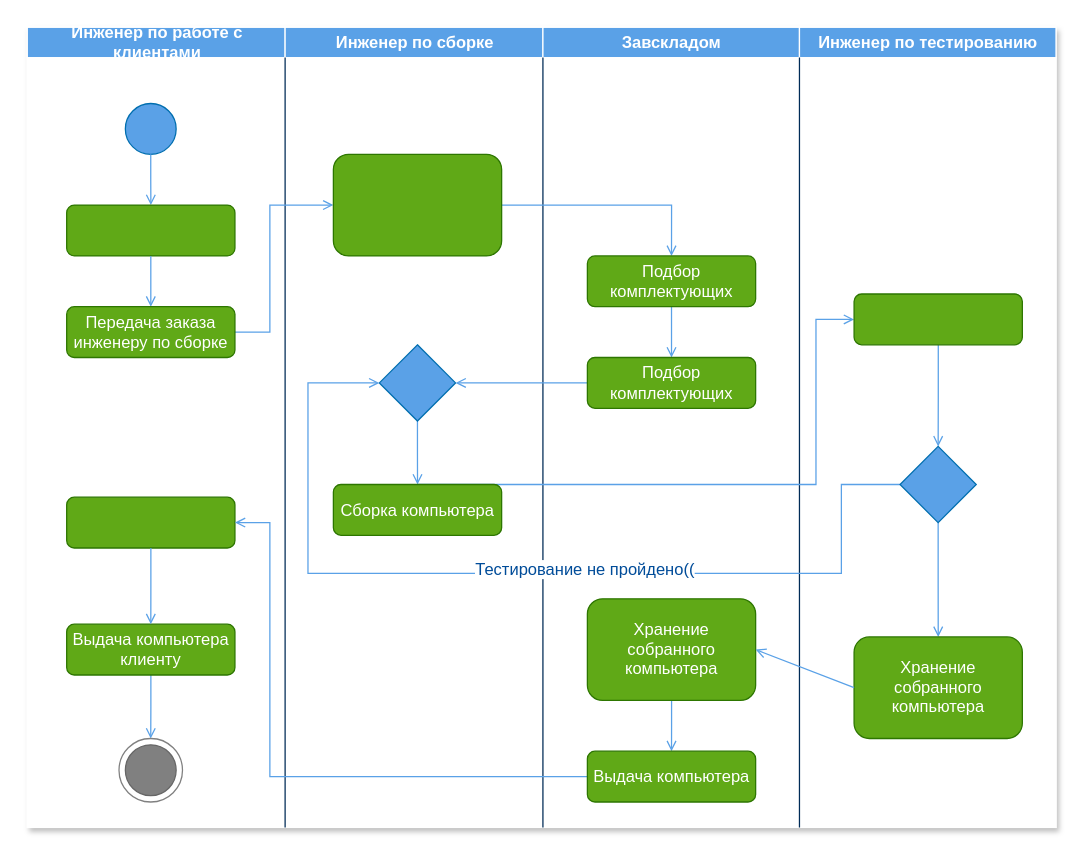
Some shapes in this 1086 by 859 pixel diagram are drawn without their labels. The centre of each missing label's shape, as x and y in pixels:
Запрос необходимых комплектующих со склада: pixel 417 204
Оформление документов: pixel 150 522
Оформление заказа клиента: pixel 150 230
Тестирование: pixel 937 319
